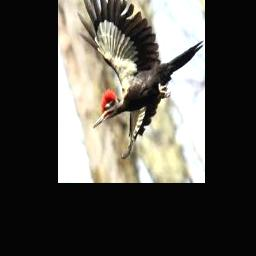Woodpecker: (77, 0, 204, 158)
